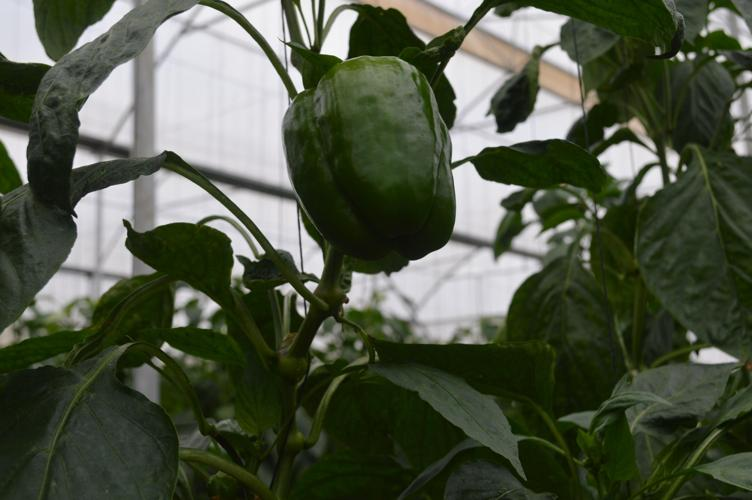BellPepper: (278, 55, 469, 276)
